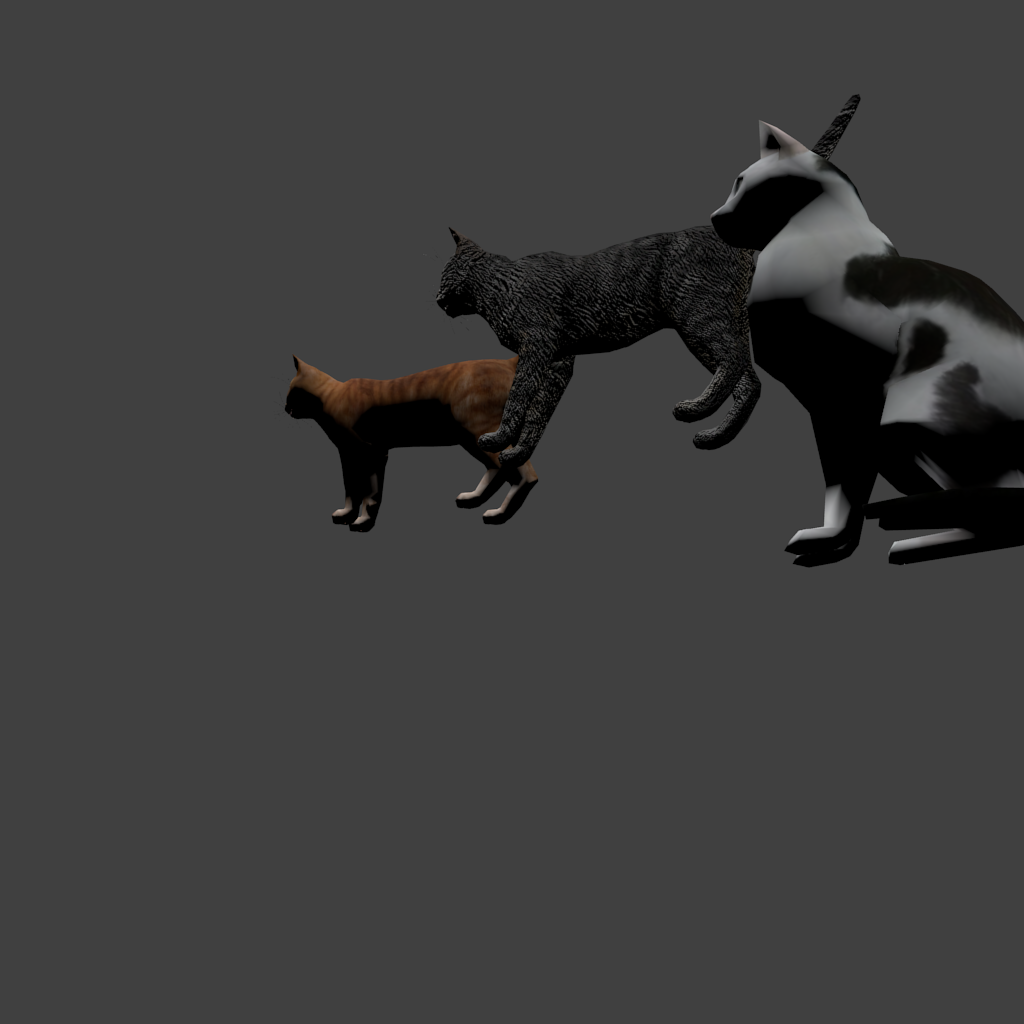Cat: (417, 94, 444, 374)
